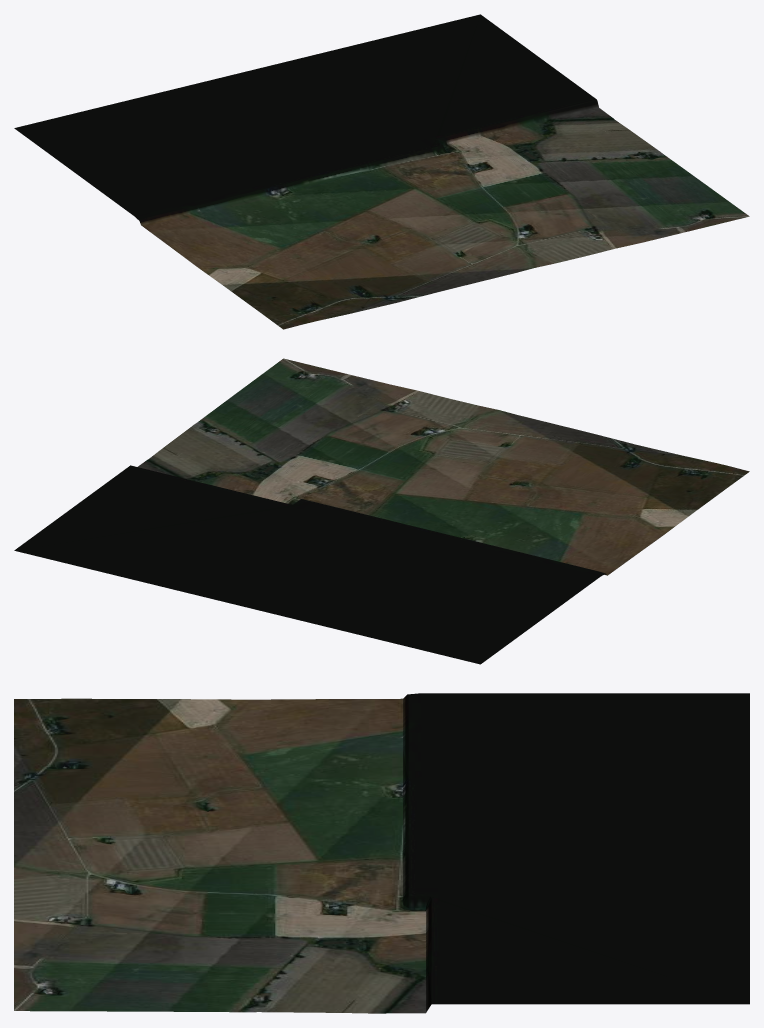
Rendered from map_10_254_433.dae.
3 views of the same model, one above another, from view 1: azimuth 30°, elevation 25°; view 2: azimuth 150°, elevation 25°; view 3: azimuth 270°, elevation 25° (orthographic). The views are drawn at different scales.
Visible parts, largest first — view 1: Ter0; view 2: Ter0; view 3: Ter0.
Part boxes in pixels (bbox=[...]): Ter0: bbox=[14, 14, 749, 329]; Ter0: bbox=[14, 358, 749, 664]; Ter0: bbox=[14, 693, 749, 1013].
Bounding box in the file's own units: 2044 × 2044 × 34.87.
3 materials, 3 textured.
